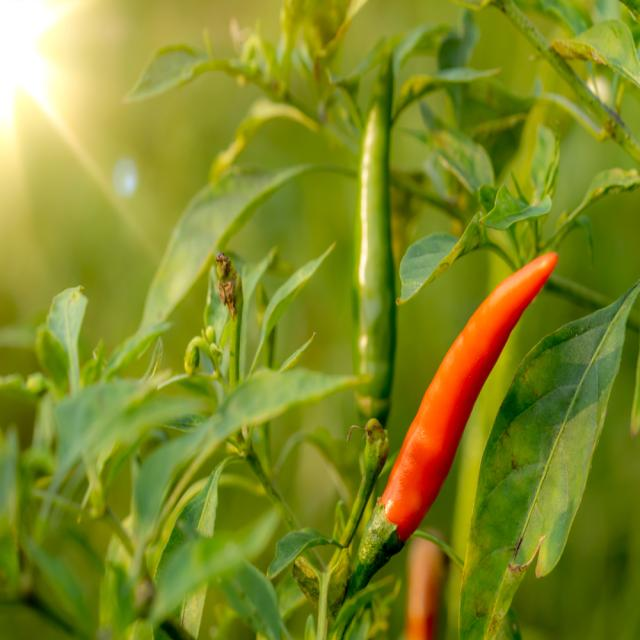Ripe: (380, 253, 558, 540)
Unripe: (352, 58, 396, 426)
